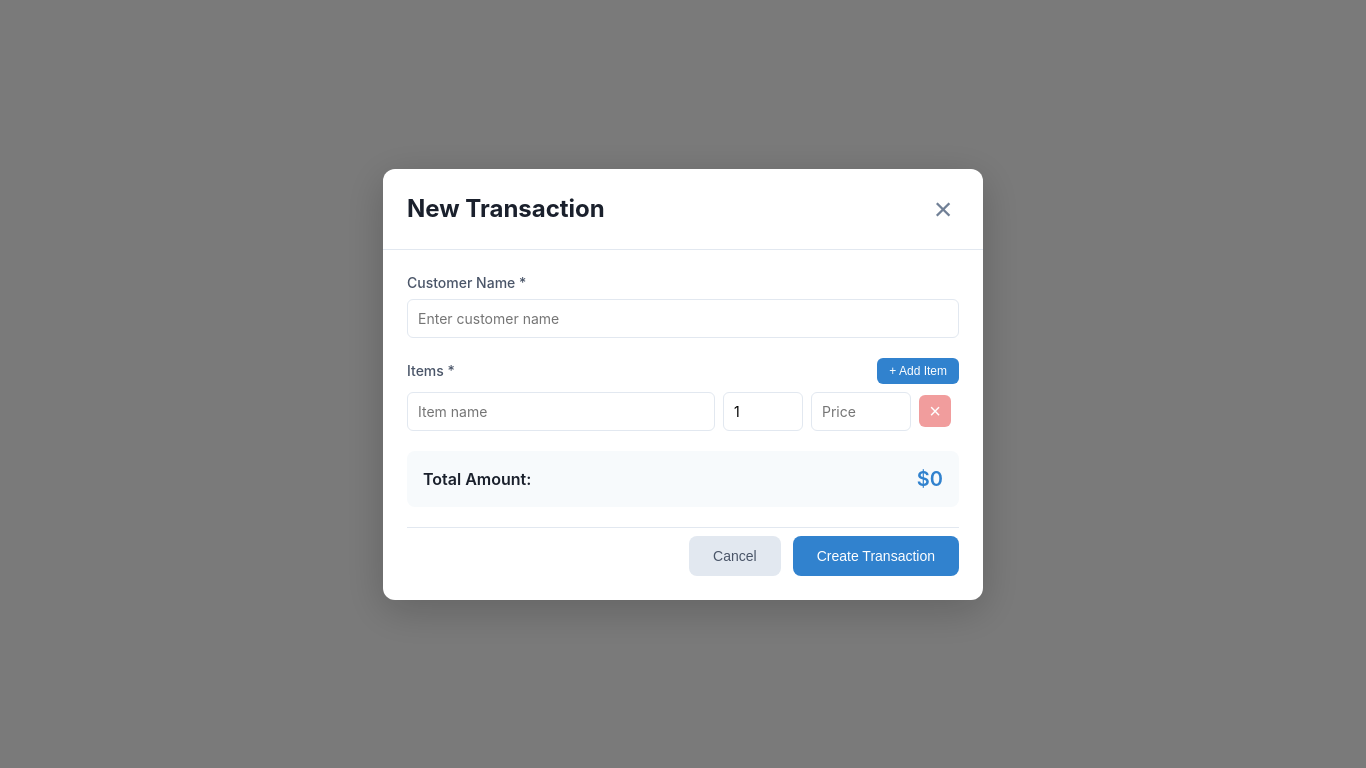
Test case: TransactionForm Component › should handle form with multiple items
Click the button "+ Add Item".
click(918, 370)  # box [877,358,959,384]
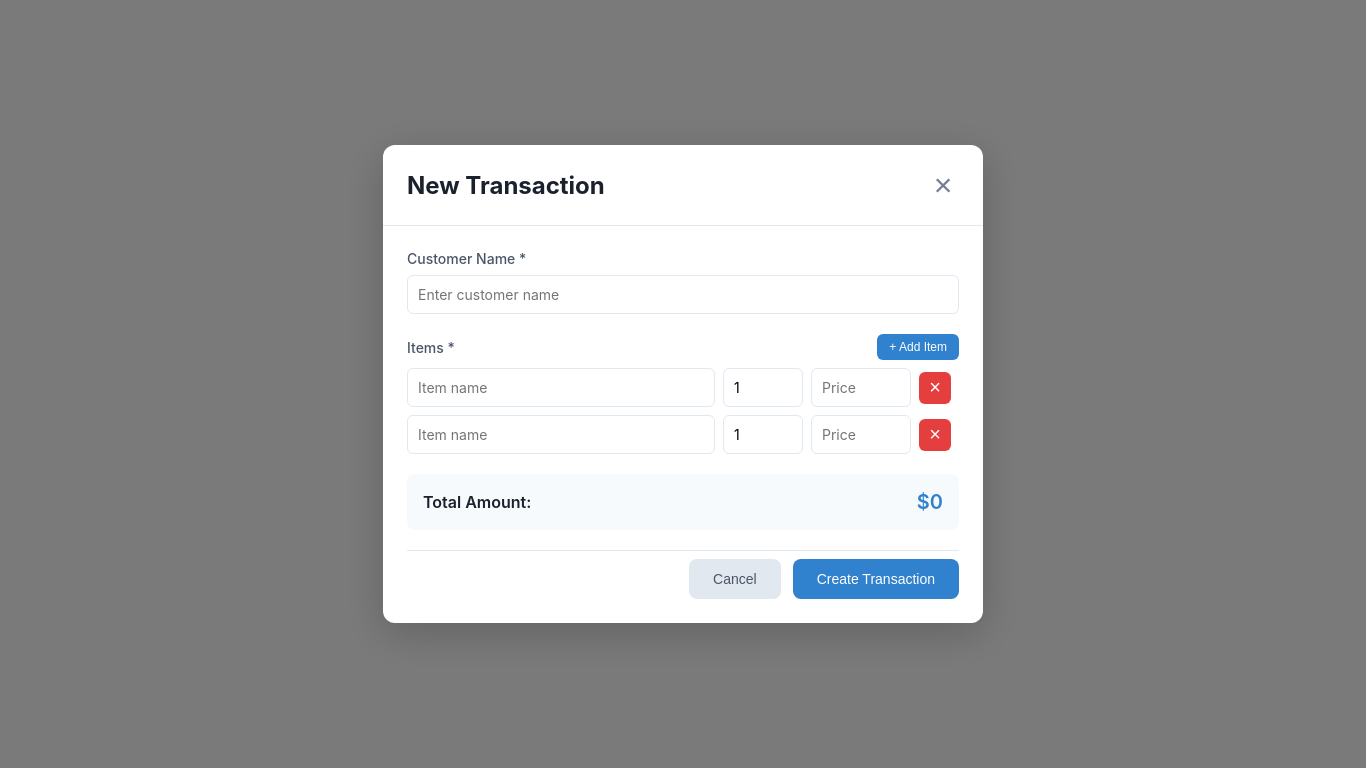
Check: the number of fields with placeholder "Item name" is 2, box [407,368,715,407]; [407,415,715,454]
